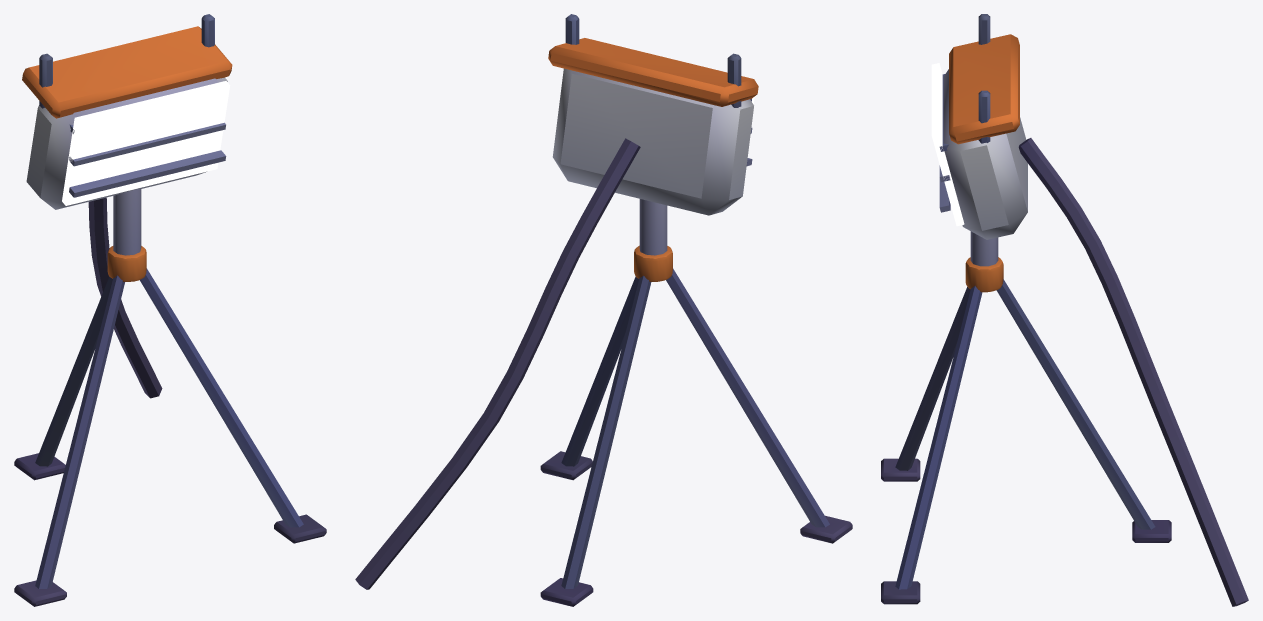
Rendered from hub_prop_floodlight.glb.
The picture shows the model from 3 angles, left to right: view 1: azimuth 30°, elevation 25°; view 2: azimuth 150°, elevation 25°; view 3: azimuth 270°, elevation 25°; orthographic projection. The views are drawn at different scales.
Visible parts, largest first — view 1: hub_prop_floodlight; view 2: hub_prop_floodlight; view 3: hub_prop_floodlight.
Boxes of the visible parts, bbox=[...] form: hub_prop_floodlight: bbox=[14, 14, 326, 606]; hub_prop_floodlight: bbox=[355, 14, 852, 606]; hub_prop_floodlight: bbox=[881, 14, 1248, 606].
Size of the model in its own units: 1.77 by 2.72 by 1.87.
